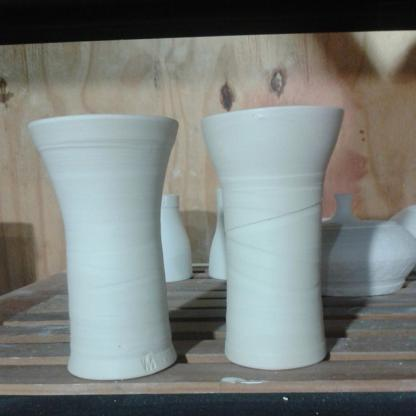vase: (23, 112, 176, 380), (198, 103, 346, 369)
